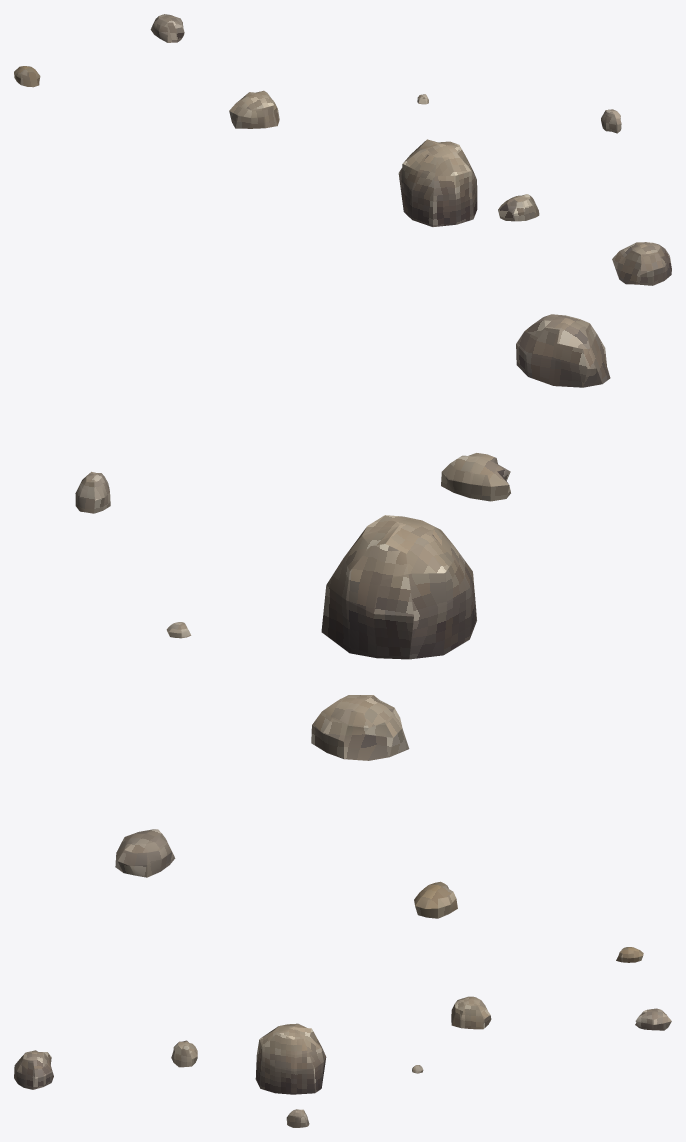
The picture shows the model from 3 angles, top to bottom: view 1: azimuth 30°, elevation 25°; view 2: azimuth 150°, elevation 25°; view 3: azimuth 270°, elevation 25°; orthographic projection. The views are drawn at different scales.
Parts seen in each view (by area): view 1: Grit; view 2: Grit; view 3: Grit.
Boxes of the visible parts, bbox=[...] form: Grit: bbox=[14, 14, 671, 285]; Grit: bbox=[75, 314, 610, 918]; Grit: bbox=[14, 947, 671, 1127].
Bounding box in the file's own units: 9.38 × 1.44 × 15.21.
1 material, 1 textured.
